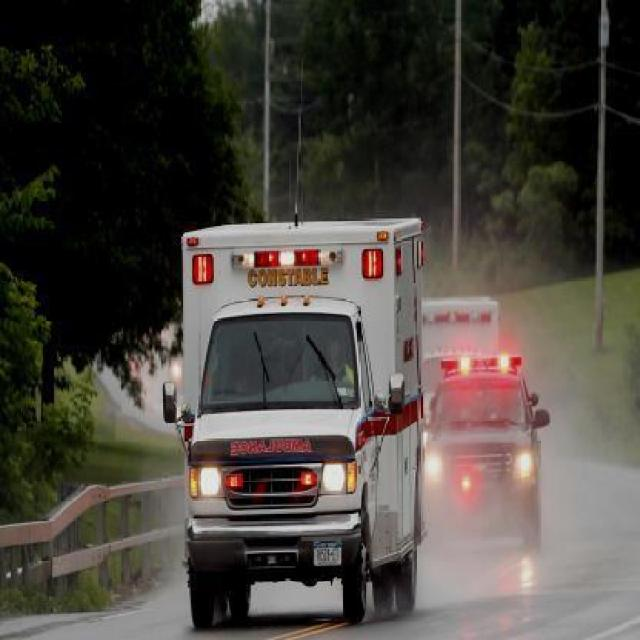Ambulance: (158, 208, 432, 592), (416, 343, 549, 568)
